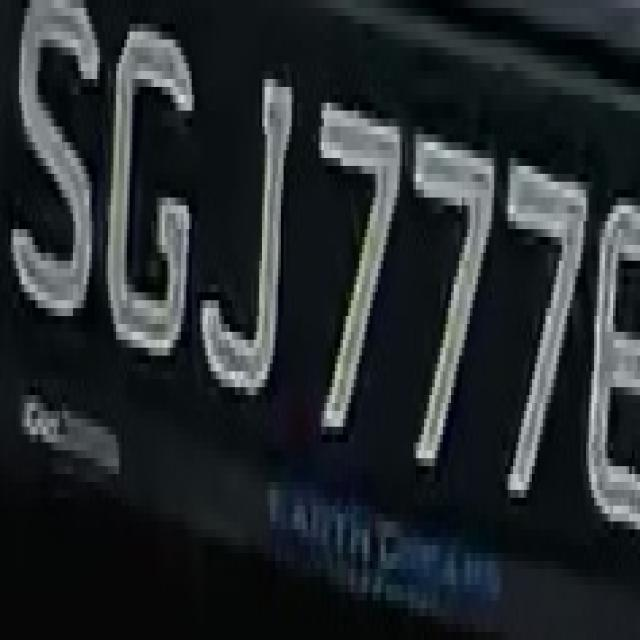7: (400, 118, 502, 498), (305, 48, 397, 466), (502, 118, 584, 498)
8: (583, 182, 640, 584)
G: (100, 23, 205, 356)
J: (200, 32, 302, 458)
S: (11, 31, 100, 364)
